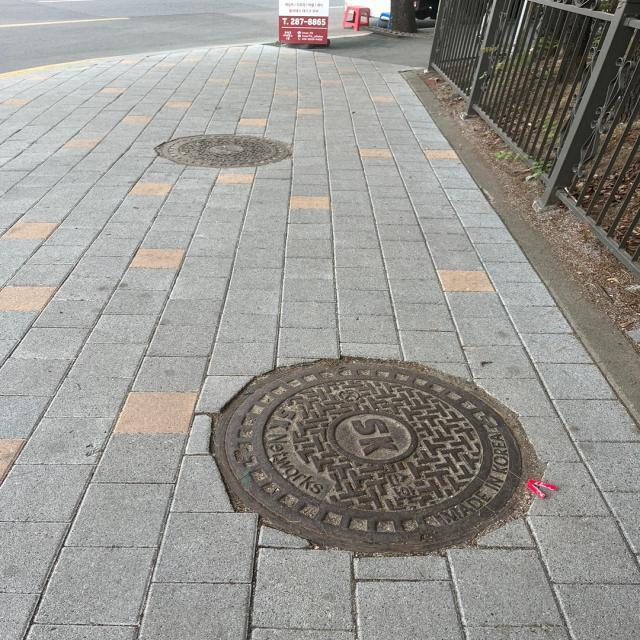manhole: (212, 358, 538, 552), (155, 135, 291, 168)
